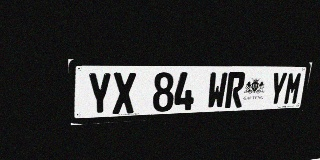4: (173, 72, 196, 111)
8: (152, 72, 175, 112)
M: (283, 72, 303, 105)
R: (225, 72, 246, 108)
W: (206, 72, 228, 109)
X: (113, 72, 136, 114)
Y: (87, 72, 112, 116), (267, 72, 288, 106)
